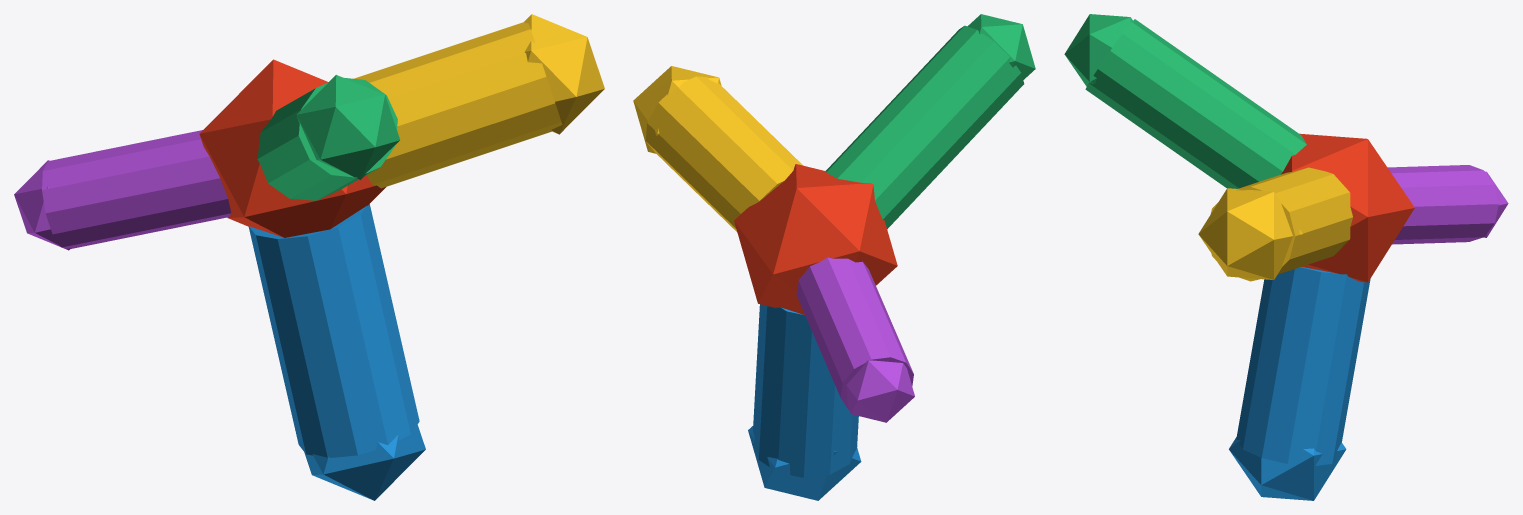
File: tetrapod.obj
3 renders of one model, left to right at view 1: azimuth 30°, elevation 25°; view 2: azimuth 150°, elevation 25°; view 3: azimuth 270°, elevation 25°, orthographic. The views are drawn at different scales.
Parts seen in each view (by area): view 1: tetra_hub; view 2: tetra_hub; view 3: tetra_hub.
Boxes of the visible parts, <box> form: tetra_hub: <box>14,14,604,500</box>; tetra_hub: <box>633,14,1035,500</box>; tetra_hub: <box>1064,14,1508,500</box>.
Bounding box in the file's own units: 0.0653 × 0.0729 × 0.0679.
